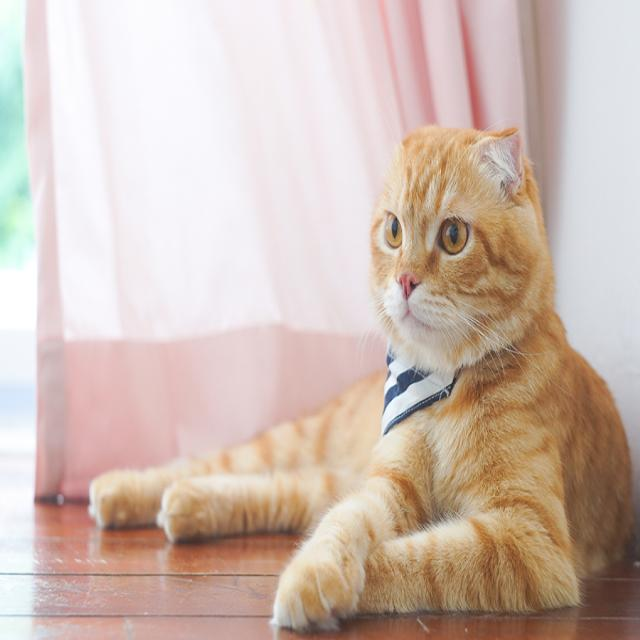Scottish Fold: (81, 117, 637, 635)
